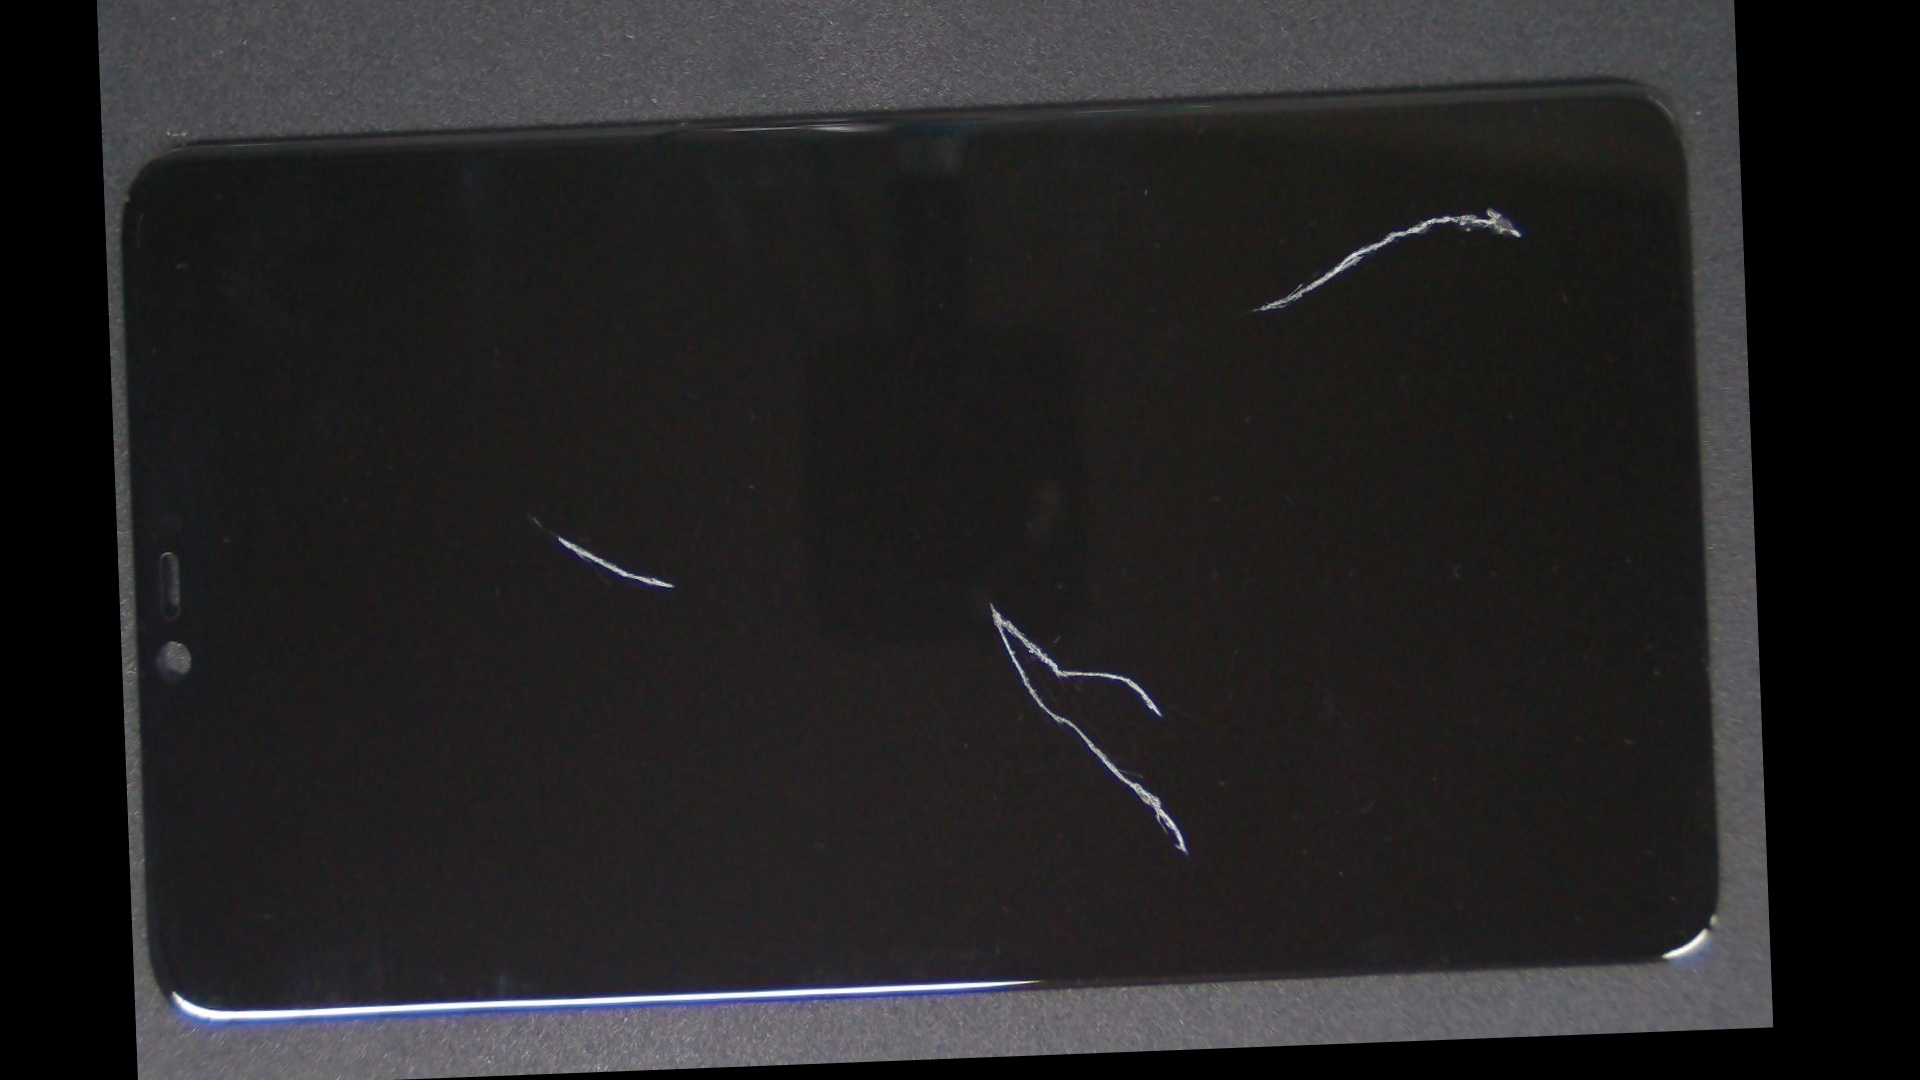oil: (545, 266, 1440, 938), (794, 66, 1746, 363), (315, 240, 750, 790)
